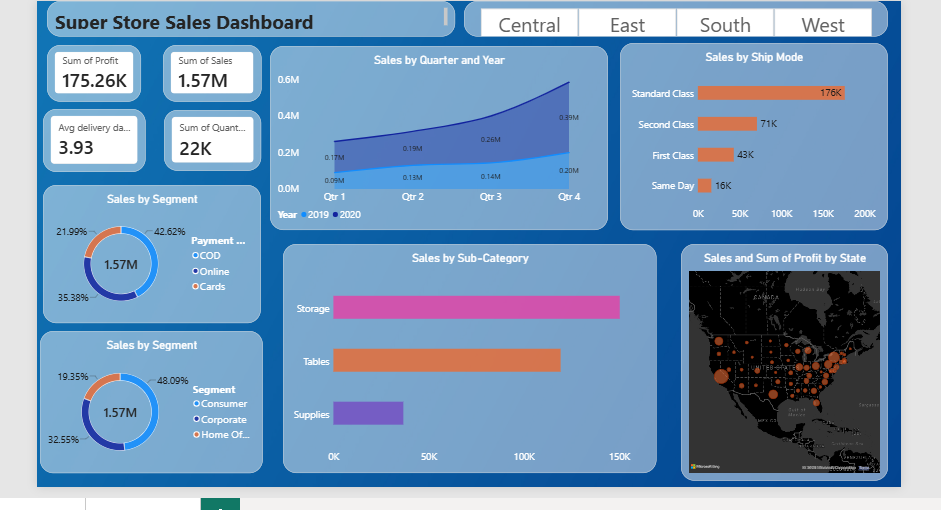

What the dashboard file says about the page in this screenshot:
{"tool":"powerbi","page":{"name":"Dashboard","canvas":[1920,1080],"ordinal":0},"visuals":[{"type":"barChart","title":"Sales by Sub-Category","fields":{"Category":["SuperStore_Sales_Dataset.Sub-Category"],"Y":["Sum(SuperStore_Sales_Dataset.Sales)"]},"box":[546.5,539.5,830.2,509.3],"z":1000},{"type":"barChart","title":"Sales by Ship Mode","fields":{"Category":["SuperStore_Sales_Dataset.Ship Mode"],"Y":["Sum(SuperStore_Sales_Dataset.Sales)"]},"box":[1295.3,93,595.3,416.3],"z":2000},{"type":"stackedAreaChart","title":"Sales by Quarter and Year","fields":{"Category":["SuperStore_Sales_Dataset.Order Date.Variation.Date Hierarchy.Quarter"],"Series":["SuperStore_Sales_Dataset.Order Date.Variation.Date Hierarchy.Year"],"Y":["Sum(SuperStore_Sales_Dataset.Sales)"]},"box":[518.6,100,751.2,409.3],"z":3000},{"type":"map","title":"Sales and Sum of Profit by State","fields":{"Category":["SuperStore_Sales_Dataset.State"],"Size":["Sum(SuperStore_Sales_Dataset.Sales)"]},"box":[1430.2,539.5,460.5,525.6],"z":5000},{"type":"donutChart","title":"Sales by Segment","fields":{"Category":["SuperStore_Sales_Dataset.Segment"],"Y":["Sum(SuperStore_Sales_Dataset.Sales)"]},"box":[7,732.6,495.3,316.3],"z":6000},{"type":"donutChart","title":"Sales by Segment","fields":{"Category":["SuperStore_Sales_Dataset.Payment Mode"],"Y":["Sum(SuperStore_Sales_Dataset.Sales)"]},"box":[14,409.3,483.7,307],"z":7000},{"type":"slicer","fields":{"Values":["SuperStore_Sales_Dataset.Region"]},"box":[948.8,0,941.9,79.1],"z":8000},{"type":"cardVisual","fields":{"Data":["Sum(SuperStore_Sales_Dataset.Profit)"]},"box":[23.3,97.7,209.3,125.6],"z":9000},{"type":"cardVisual","fields":{"Data":["Sum(SuperStore_Sales_Dataset.Quantity)"]},"box":[281.4,241.9,216.3,134.9],"z":10000},{"type":"cardVisual","fields":{"Data":["Sum(SuperStore_Sales_Dataset.Sales)"]},"box":[279.1,97.7,218.6,125.6],"z":11000},{"type":"cardVisual","fields":{"Data":["Avg(SuperStore_Sales_Dataset.Avg delivery)"]},"box":[14,239.5,227.9,139.5],"z":12000},{"type":"textbox","box":[23.3,0,907,79.1],"z":13000}]}

Visuals, with their boxes in screenshot pixels (x1, y1, x2, y2):
"Sales by Sub-Category" barChart: 280, 242, 652, 471
"Sales by Ship Mode" barChart: 616, 42, 883, 229
"Sales by Quarter and Year" stackedAreaChart: 267, 45, 604, 229
"Sales and Sum of Profit by State" map: 676, 242, 883, 478
"Sales by Segment" donutChart: 37, 329, 260, 471
"Sales by Segment" donutChart: 41, 184, 258, 322
slicer - SuperStore_Sales_Dataset.Region: 460, 0, 883, 36
cardVisual - Sum(SuperStore_Sales_Dataset.Profit): 45, 44, 139, 100
cardVisual - Sum(SuperStore_Sales_Dataset.Quantity): 161, 109, 258, 169
cardVisual - Sum(SuperStore_Sales_Dataset.Sales): 160, 44, 258, 100
cardVisual - Avg(SuperStore_Sales_Dataset.Avg delivery): 41, 108, 143, 170
textbox: 45, 0, 452, 36
